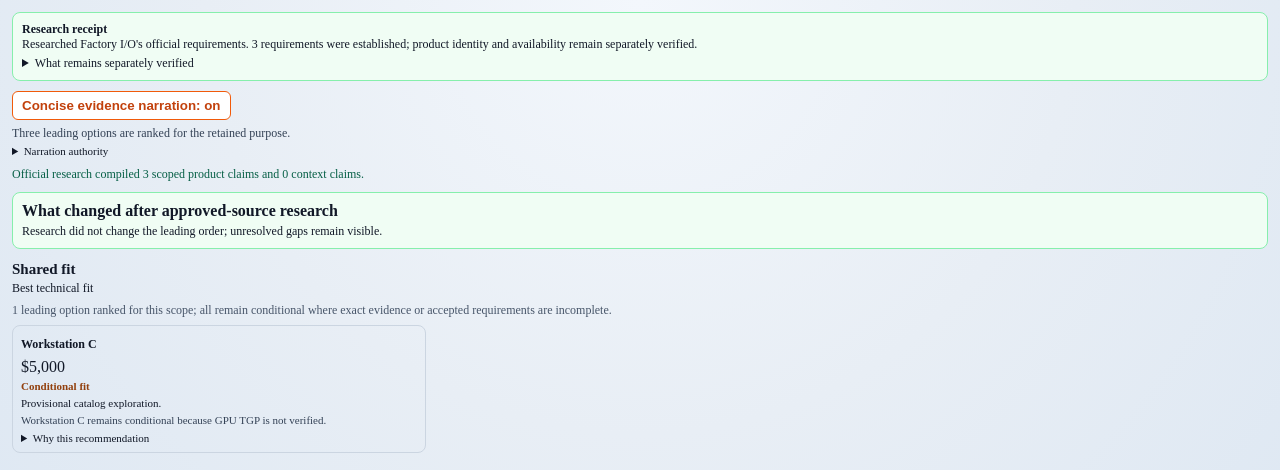
Test: research truth panels › shows concise research and narration while keeping mechanics in drill-down
Expected: the element with test id "buyer-research-receipt" shows "Factory I/O's official requirements", [22,37,697,51]
Expected: the text with test id "deterministic-shelf-narration" shows "Three leading options", [12,126,290,140]
What coordinates should you click on to do the following:
click the button "Concise evidence narration: on"
I would click on:
 (121, 106)
Its box is [12,91,230,120].
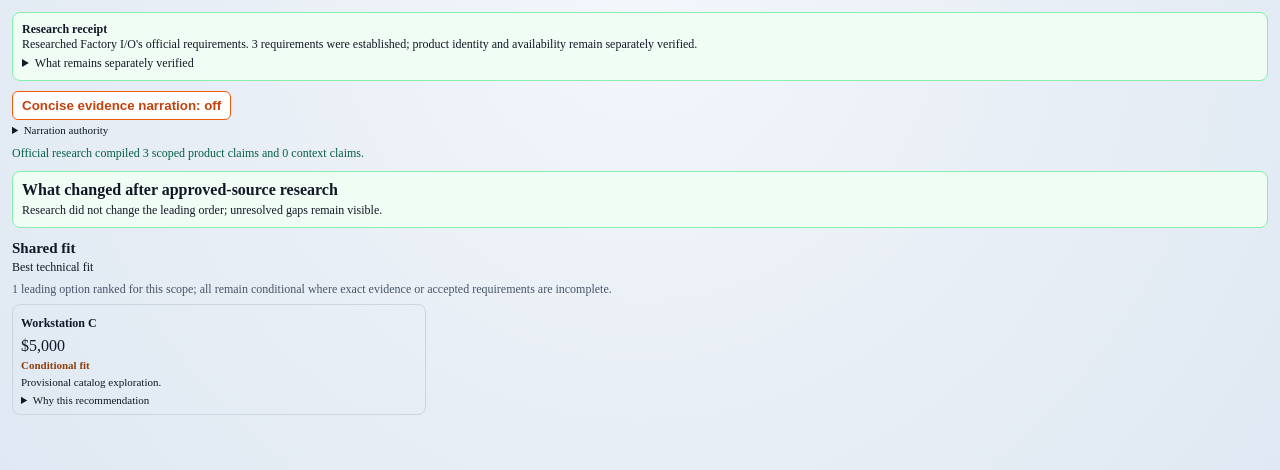
Expected: the text "current buyer renderer is deterministic" is shown, [12,136,708,148]
Expected: the text with test id "deterministic-shelf-narration" is gone
Expected: the text with test id "product-narration-WS-3" is gone
